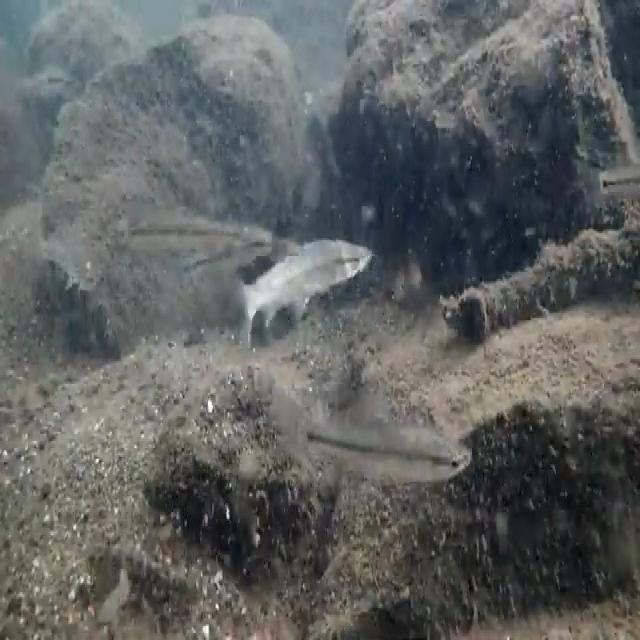Cakil Baligi: (268, 378, 474, 494), (233, 235, 374, 362)
